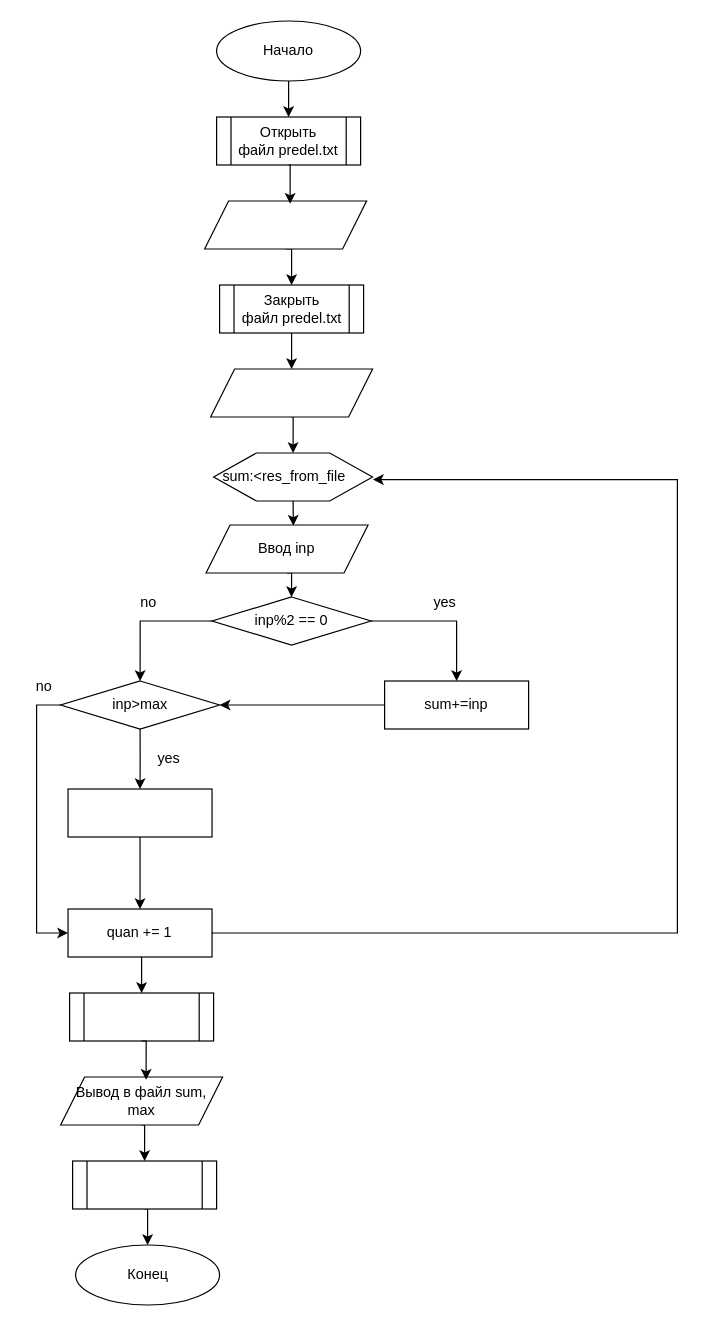
The diagram is 709 pixels wide and 1326 high, and some of its shapes have lost their labels. Here are the shapes that lost their labels. From the top down, the box of each, then its label:
(203, 200, 367, 249): res_from_file = значение из файла
(209, 368, 373, 417): quan, sum, max = 0
(67, 788, 212, 837): max = inp
(68, 992, 214, 1041): Открыть файл kolmax.txt
(71, 1160, 217, 1209): Закрыть файл kolmax.txt
